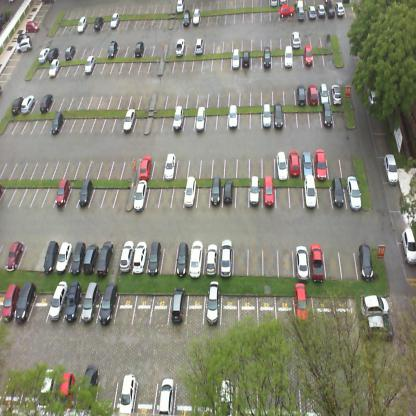car: (79, 360, 101, 408), (61, 289, 86, 326), (118, 372, 139, 416), (37, 366, 57, 408), (80, 287, 102, 325), (46, 290, 69, 326), (363, 316, 394, 342), (96, 288, 118, 324), (354, 240, 374, 277), (2, 282, 20, 322), (168, 291, 189, 325), (13, 289, 36, 320), (145, 240, 165, 275), (202, 293, 221, 329), (158, 376, 175, 416), (293, 282, 309, 324), (400, 225, 416, 266), (41, 239, 60, 273), (68, 240, 87, 274), (218, 376, 234, 416), (76, 176, 94, 210), (293, 243, 311, 277), (53, 241, 72, 273), (82, 240, 100, 273), (310, 242, 326, 278), (59, 372, 75, 408), (6, 240, 24, 272), (174, 243, 191, 276), (382, 152, 399, 185), (360, 295, 391, 313), (203, 241, 218, 278), (188, 242, 204, 276), (344, 176, 362, 206), (132, 240, 148, 273), (217, 242, 233, 275), (96, 244, 113, 274), (314, 148, 330, 178), (118, 242, 134, 272), (55, 176, 70, 208), (133, 177, 146, 212), (330, 179, 345, 208), (122, 106, 137, 134), (288, 147, 302, 177), (301, 148, 315, 178), (262, 178, 276, 208), (209, 180, 223, 209), (276, 148, 289, 179), (304, 178, 317, 209), (184, 179, 196, 210), (138, 155, 153, 179), (249, 179, 261, 209), (164, 152, 178, 177), (224, 179, 236, 208), (20, 92, 35, 114), (50, 110, 64, 133), (194, 107, 206, 133), (321, 104, 334, 126), (262, 105, 274, 128), (274, 105, 286, 128), (39, 94, 53, 113), (174, 108, 184, 134), (47, 58, 60, 78), (83, 54, 96, 74), (11, 94, 23, 115), (284, 43, 294, 68), (228, 106, 239, 128), (331, 84, 342, 106), (278, 4, 295, 18), (262, 45, 272, 68), (303, 44, 313, 67), (296, 84, 306, 107), (106, 39, 118, 58), (17, 38, 32, 53), (174, 37, 185, 57), (308, 84, 318, 106), (38, 46, 50, 64), (25, 18, 40, 32), (46, 47, 59, 63), (231, 47, 240, 70), (319, 82, 328, 105), (76, 15, 88, 32), (109, 12, 120, 30), (64, 44, 76, 60), (134, 40, 144, 58), (193, 37, 203, 55), (316, 2, 326, 20), (292, 27, 300, 49), (242, 49, 251, 68), (182, 8, 190, 29), (93, 16, 104, 31), (192, 8, 201, 26), (296, 6, 305, 22), (175, 0, 185, 14), (308, 4, 316, 20), (336, 2, 345, 16), (327, 3, 335, 18), (18, 32, 28, 40)
